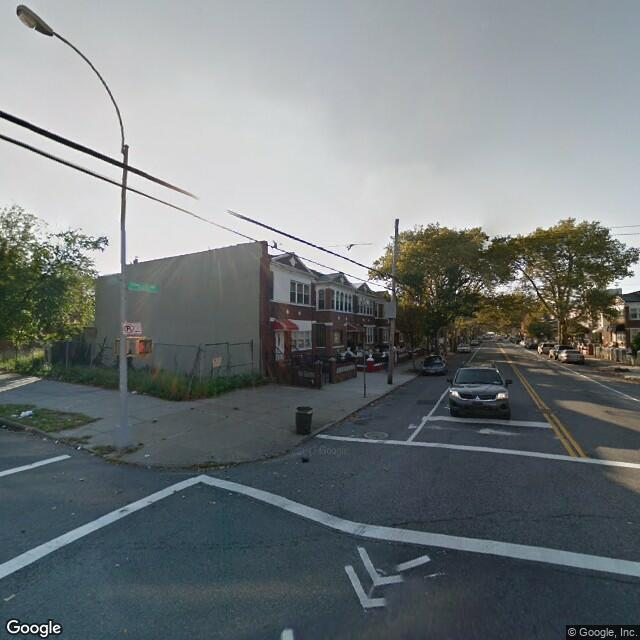litter: (19, 408, 34, 419), (3, 592, 18, 602), (51, 436, 59, 447), (49, 503, 57, 510), (38, 435, 47, 441), (66, 511, 78, 515), (144, 452, 150, 458), (9, 410, 16, 415), (129, 387, 134, 394), (73, 442, 81, 446)
